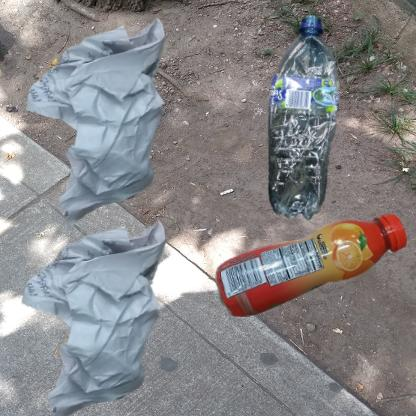botella: (213, 10, 416, 296), (213, 213, 412, 318)
papel: (10, 10, 218, 249), (10, 213, 203, 416)
